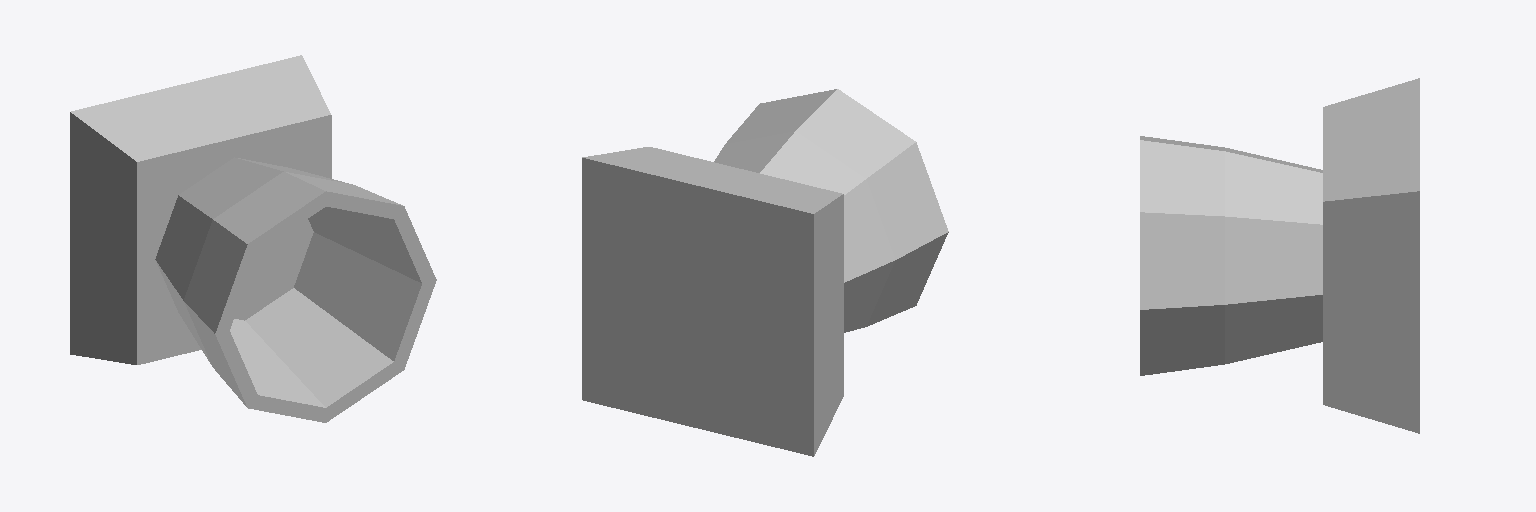
Rendered from thruster.obj.
3 views of the same model, side by side, from view 1: azimuth 30°, elevation 25°; view 2: azimuth 150°, elevation 25°; view 3: azimuth 270°, elevation 25° (orthographic).
Parts seen in each view (by area): view 1: Cube; view 2: Cube; view 3: Cube.
Part boxes in pixels (left/top/right/bottom): Cube: left=70, top=55, right=436, bottom=422; Cube: left=582, top=89, right=948, bottom=456; Cube: left=1140, top=78, right=1419, bottom=433.
Size of the model in its own units: 1 by 1 by 1.05.